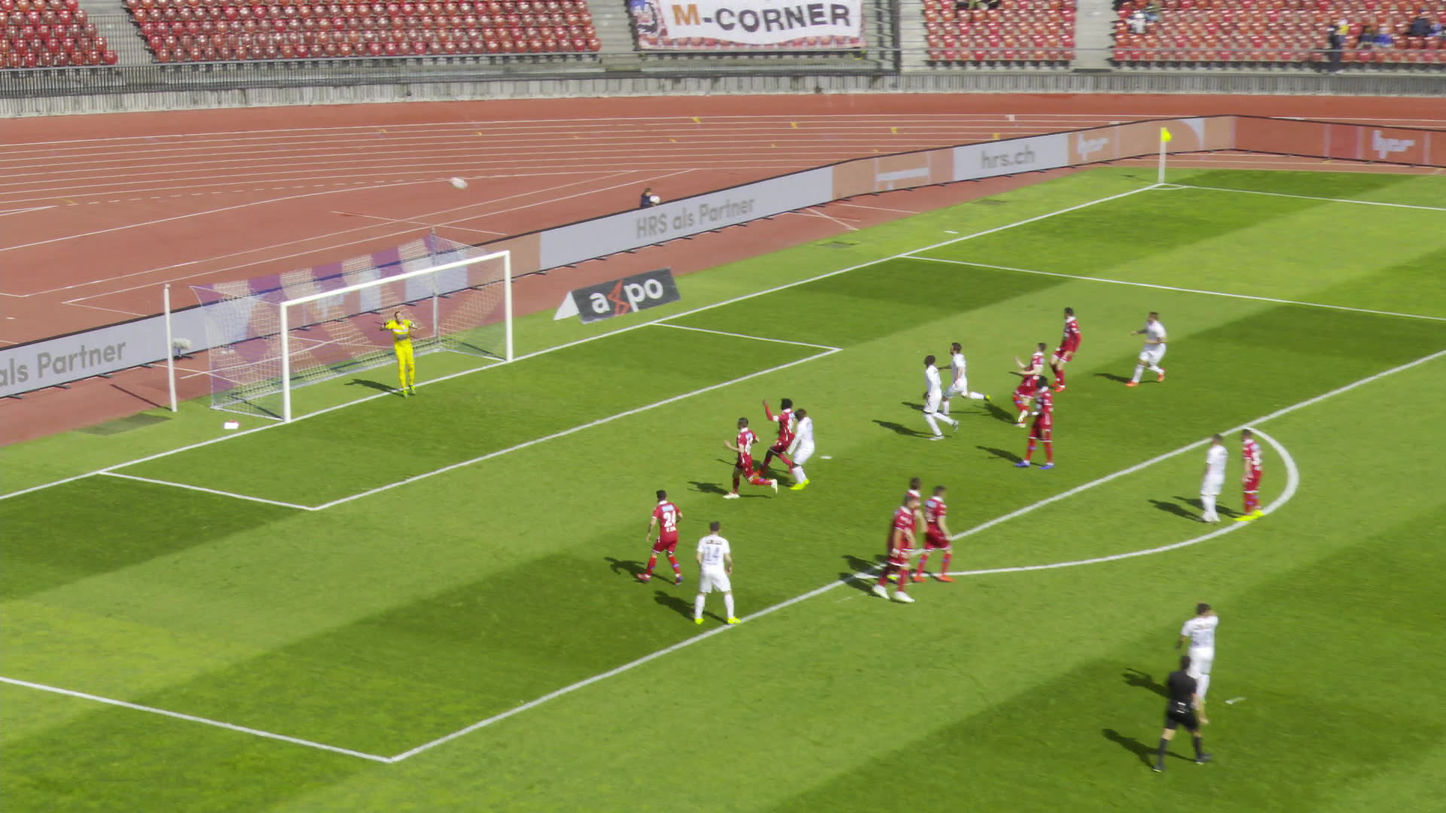ball: (467, 182, 486, 197)
player: (1169, 594, 1212, 718), (863, 496, 909, 601), (690, 519, 736, 623), (636, 489, 685, 583), (775, 404, 821, 489), (908, 486, 948, 580), (1011, 374, 1050, 469), (377, 312, 421, 395), (937, 340, 986, 414), (729, 416, 770, 498), (917, 352, 956, 438), (1002, 340, 1041, 425), (1042, 309, 1081, 391), (1188, 431, 1222, 522), (755, 394, 792, 475), (1124, 311, 1164, 385), (1225, 427, 1256, 519), (894, 477, 916, 556)
referee: (1146, 651, 1201, 768)
